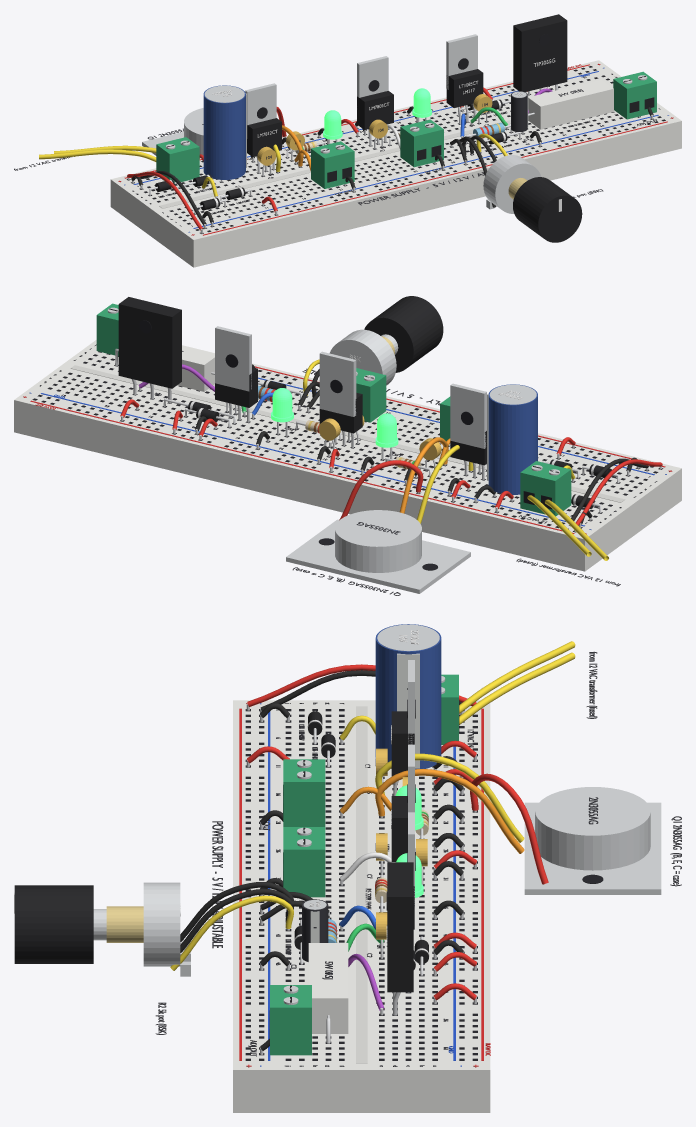
The model's file is power-supply-breadboard.glb.
The picture shows the model from 3 angles, top to bottom: view 1: azimuth 30°, elevation 25°; view 2: azimuth 150°, elevation 25°; view 3: azimuth 270°, elevation 25°; orthographic projection. The views are drawn at different scales.
Visible parts, largest first — view 1: Breadboard 830, Q2 body, Socket holes, C1 can, R2 knob, R4 body, R2 body, J1 block, J3 block, J4 block, J2 block, U1 body (+14 smaller); view 2: Breadboard 830, Q2 body, Q1 TO-3 can, Socket holes, C1 can, Q1 TO-3 flange, R2 knob, U6 tab, U1 tab, U5 tab, R2 body, J1 block (+17 smaller); view 3: Breadboard 830, Q1 TO-3 can, Socket holes, R2 knob, Q1 TO-3 flange, C1 can, Centre channel, Q2 body, R4 body, R2 body, J2 block, J3 block (+21 smaller).
Part boxes in pixels (x1,y1,x2,y2): Breadboard 830: (110, 60, 681, 267); Q2 body: (513, 14, 567, 91); Socket holes: (126, 66, 665, 233); C1 can: (203, 85, 245, 179); R2 knob: (513, 177, 582, 242); R4 body: (528, 79, 613, 129); R2 body: (483, 155, 541, 213); J1 block: (156, 137, 199, 182); J3 block: (311, 141, 354, 188); J4 block: (400, 119, 443, 167); J2 block: (613, 71, 656, 119); U1 body: (446, 69, 483, 107); Breadboard 830: (14, 340, 681, 571); Q2 body: (118, 297, 181, 388); Q1 TO-3 can: (335, 510, 421, 572); Socket holes: (32, 351, 663, 532); C1 can: (488, 384, 537, 494); Q1 TO-3 flange: (286, 519, 470, 593); R2 knob: (364, 296, 443, 372); U6 tab: (319, 351, 356, 416); U1 tab: (215, 326, 251, 391); U5 tab: (450, 383, 486, 448); R2 body: (329, 329, 396, 385); J1 block: (520, 461, 571, 516); Breadboard 830: (233, 700, 490, 1112); Q1 TO-3 can: (535, 787, 650, 870); Socket holes: (245, 709, 477, 1060); R2 knob: (14, 885, 93, 963); Q1 TO-3 flange: (524, 802, 661, 894); C1 can: (375, 624, 441, 769); Centre channel: (356, 706, 367, 1063); Q2 body: (387, 862, 413, 992); R4 body: (308, 943, 348, 1033); R2 body: (143, 882, 180, 966); J2 block: (270, 985, 311, 1055); J3 block: (283, 759, 325, 826).
Size of the model in its own units: 0.188 by 0.0362 by 0.1271.
